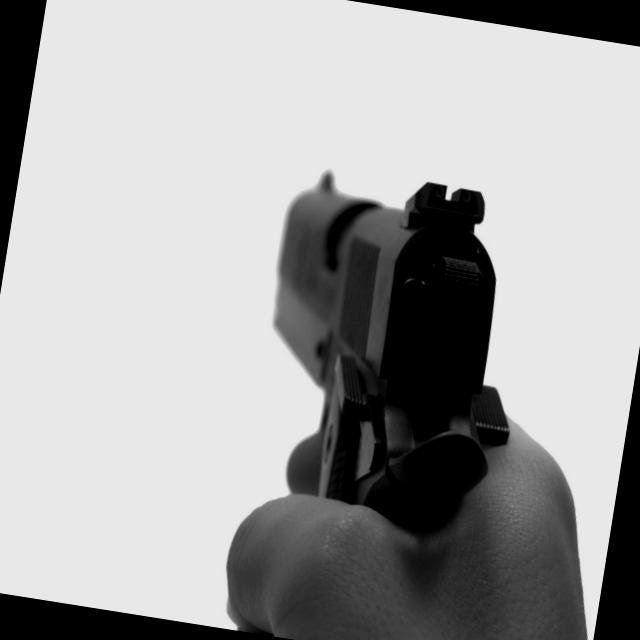handgun: (229, 163, 549, 558)
